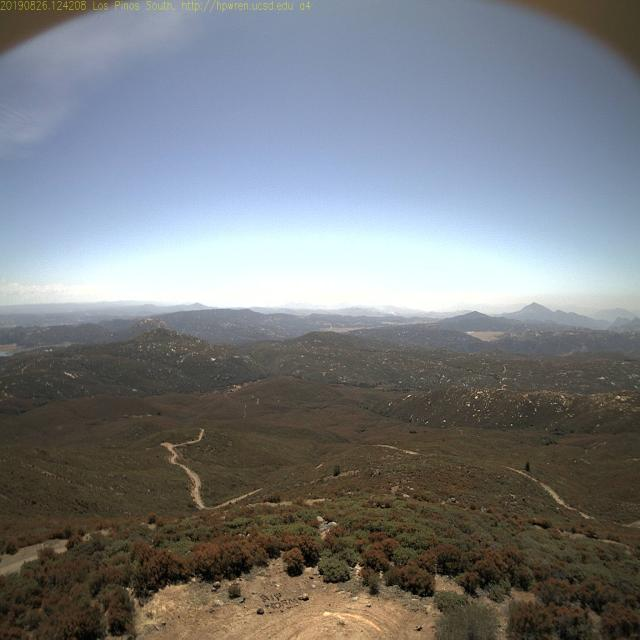smoke: (386, 308, 398, 318)
